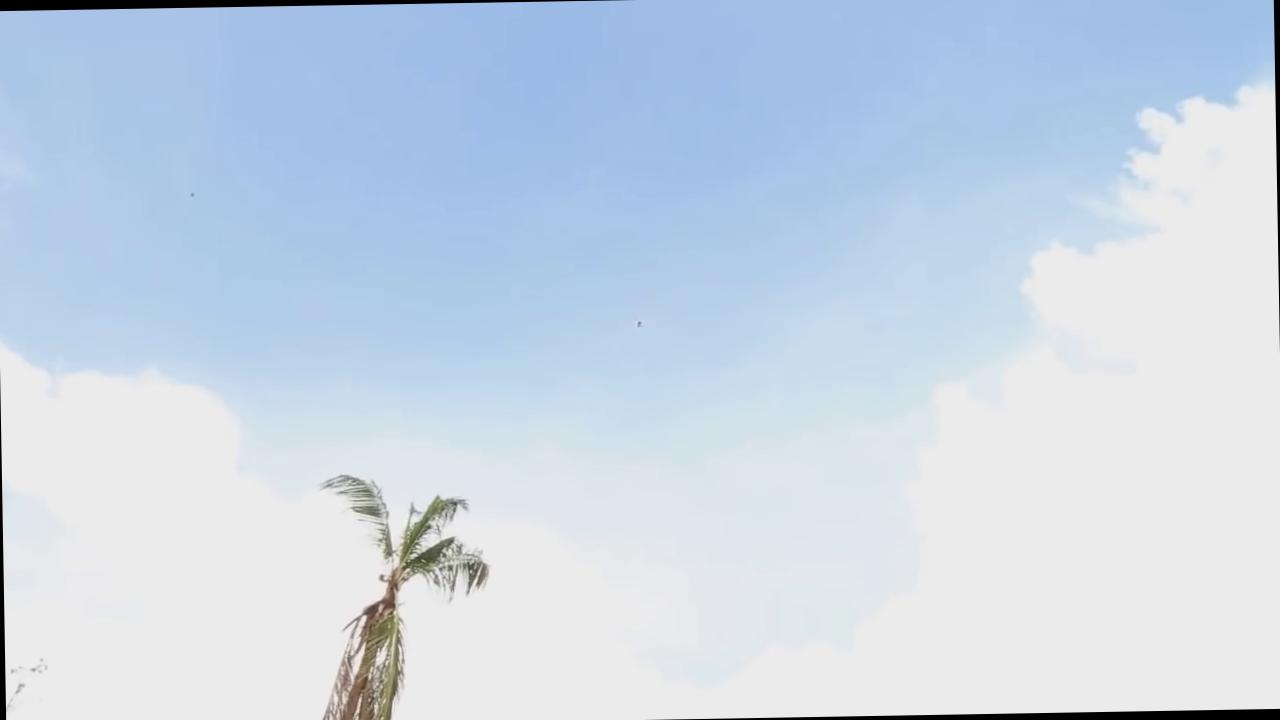drone: (628, 315, 651, 332)
